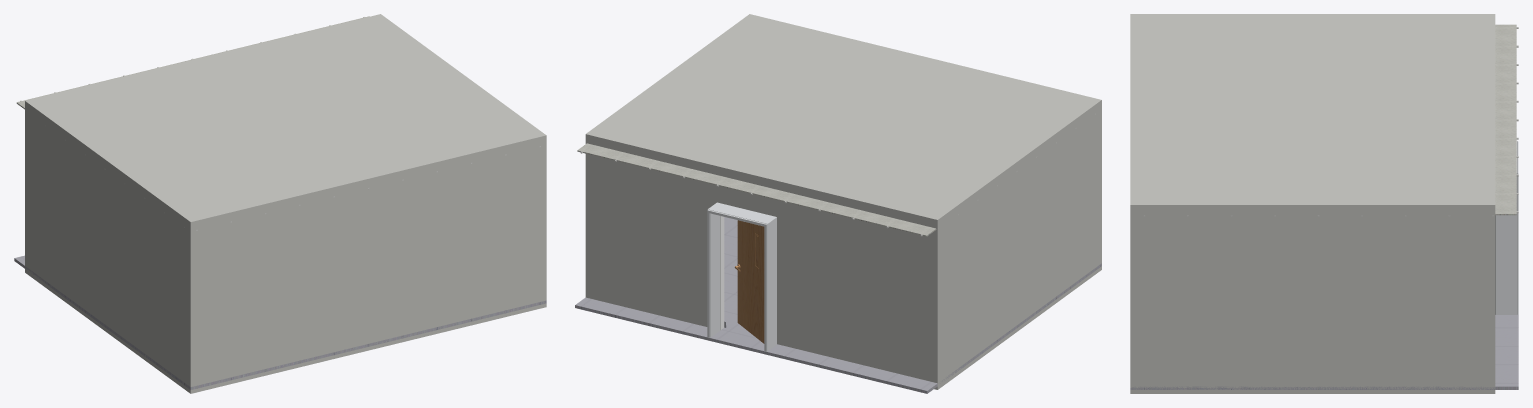
File: infinigen-ob-triage.glb
The picture shows the model from 3 angles, left to right: view 1: azimuth 30°, elevation 25°; view 2: azimuth 150°, elevation 25°; view 3: azimuth 270°, elevation 25°; orthographic projection. The views are drawn at different scales.
Parts seen in each view (by area): view 1: bedroom_0/0.exterior, openclinxr_floor_field, openclinxr_ceiling_tiles; view 2: bedroom_0/0.exterior, openclinxr_floor_field, bedroom_0/0.door_casing, openclinxr_ceiling_tiles, bedroom_0/0.door_leaf, bedroom_0/0.wall; view 3: bedroom_0/0.exterior, openclinxr_ceiling_tiles, openclinxr_floor_field, bedroom_0/0.door_casing.
Boxes of the visible parts, x1,y1,x2,y2 form: bedroom_0/0.exterior: (25,14,546,393); openclinxr_floor_field: (14,255,546,389); openclinxr_ceiling_tiles: (16,16,369,109); bedroom_0/0.exterior: (585,14,1101,389); openclinxr_floor_field: (575,217,1101,393); bedroom_0/0.door_casing: (707,202,776,351); openclinxr_ceiling_tiles: (577,143,936,236); bedroom_0/0.door_leaf: (734,220,764,343); bedroom_0/0.wall: (720,216,724,329); bedroom_0/0.exterior: (1130,14,1495,393); openclinxr_ceiling_tiles: (1495,24,1516,215); openclinxr_floor_field: (1130,314,1518,389); bedroom_0/0.door_casing: (1495,141,1518,314).
Size of the model in its own units: 6.22 by 2.87 by 5.34.
17 materials, 10 textured.
